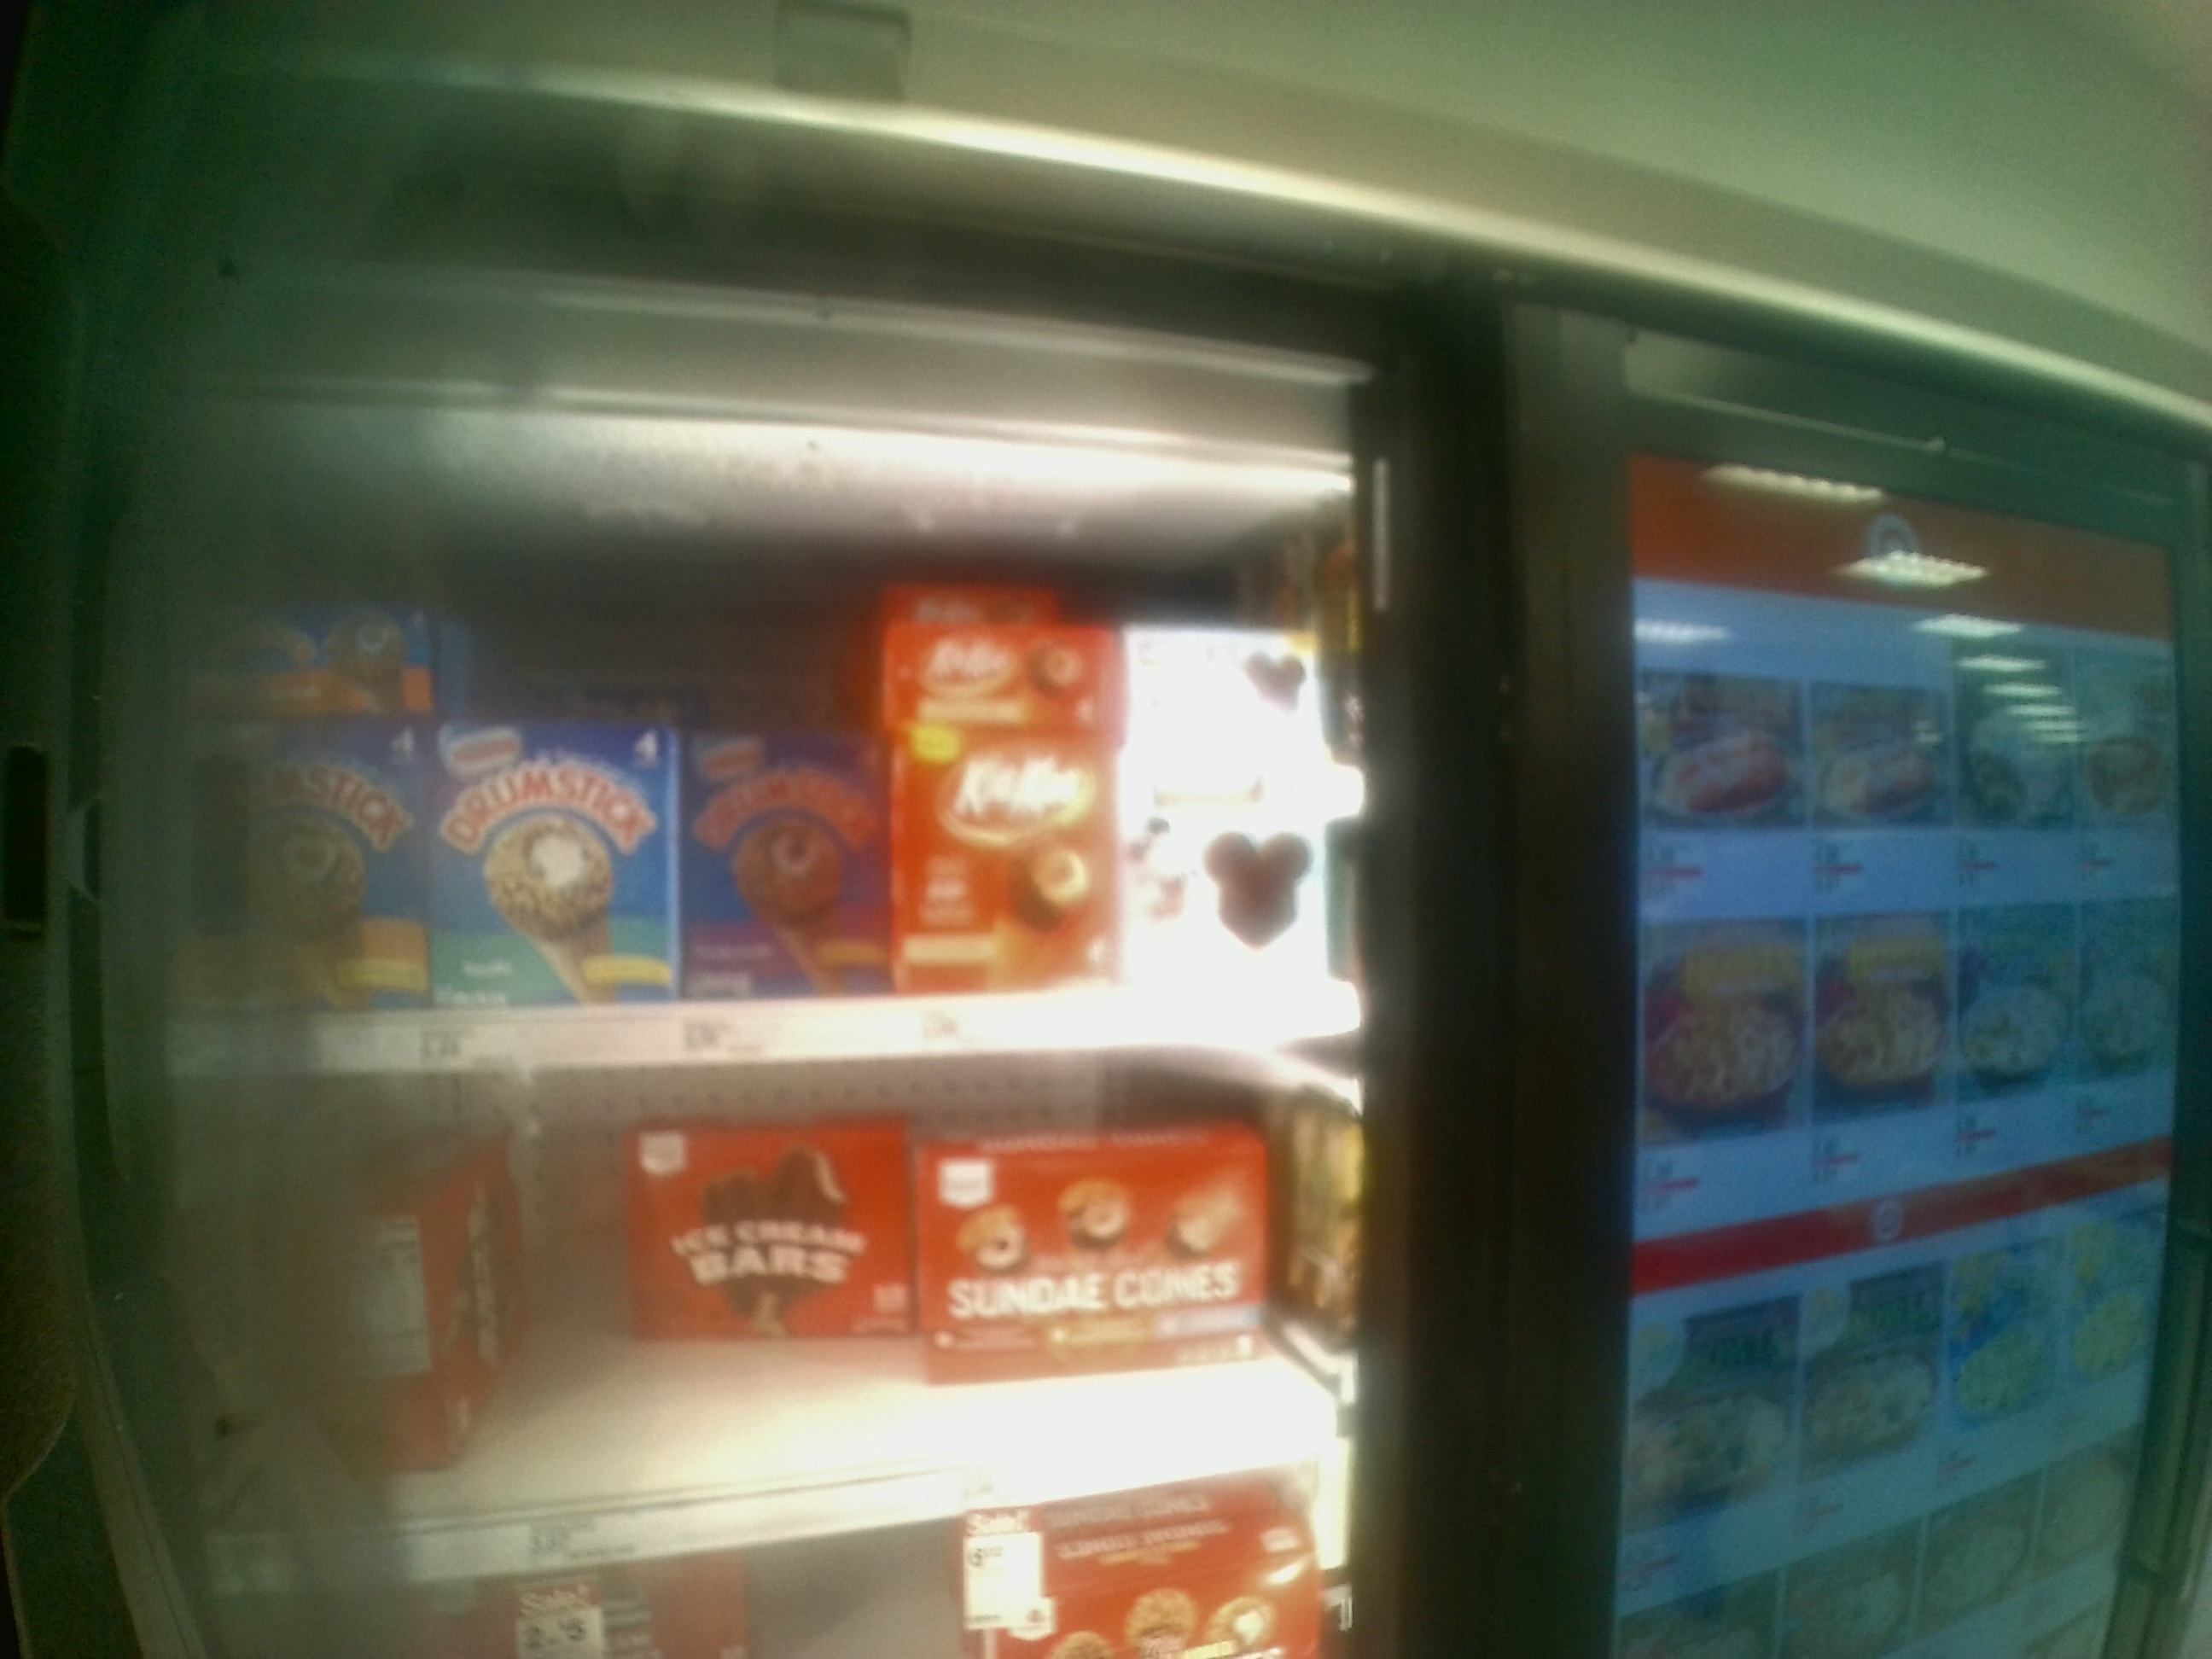frozen-food-shelf: (108, 477, 1360, 1073)
